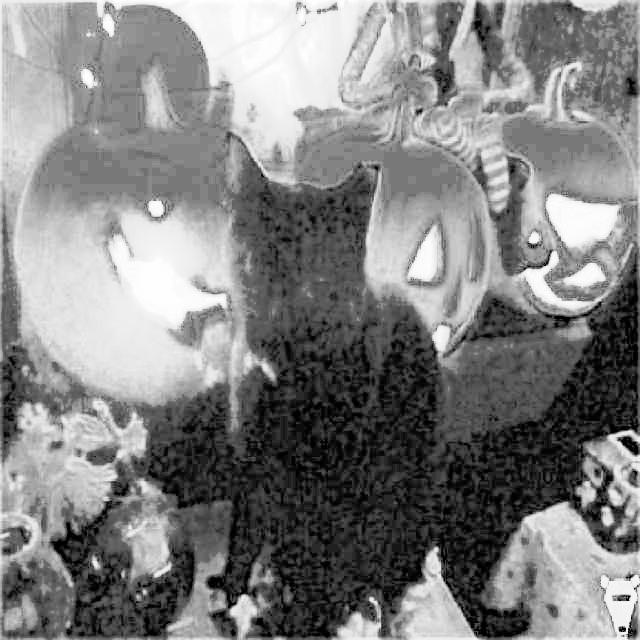Cat: (211, 120, 456, 603)
